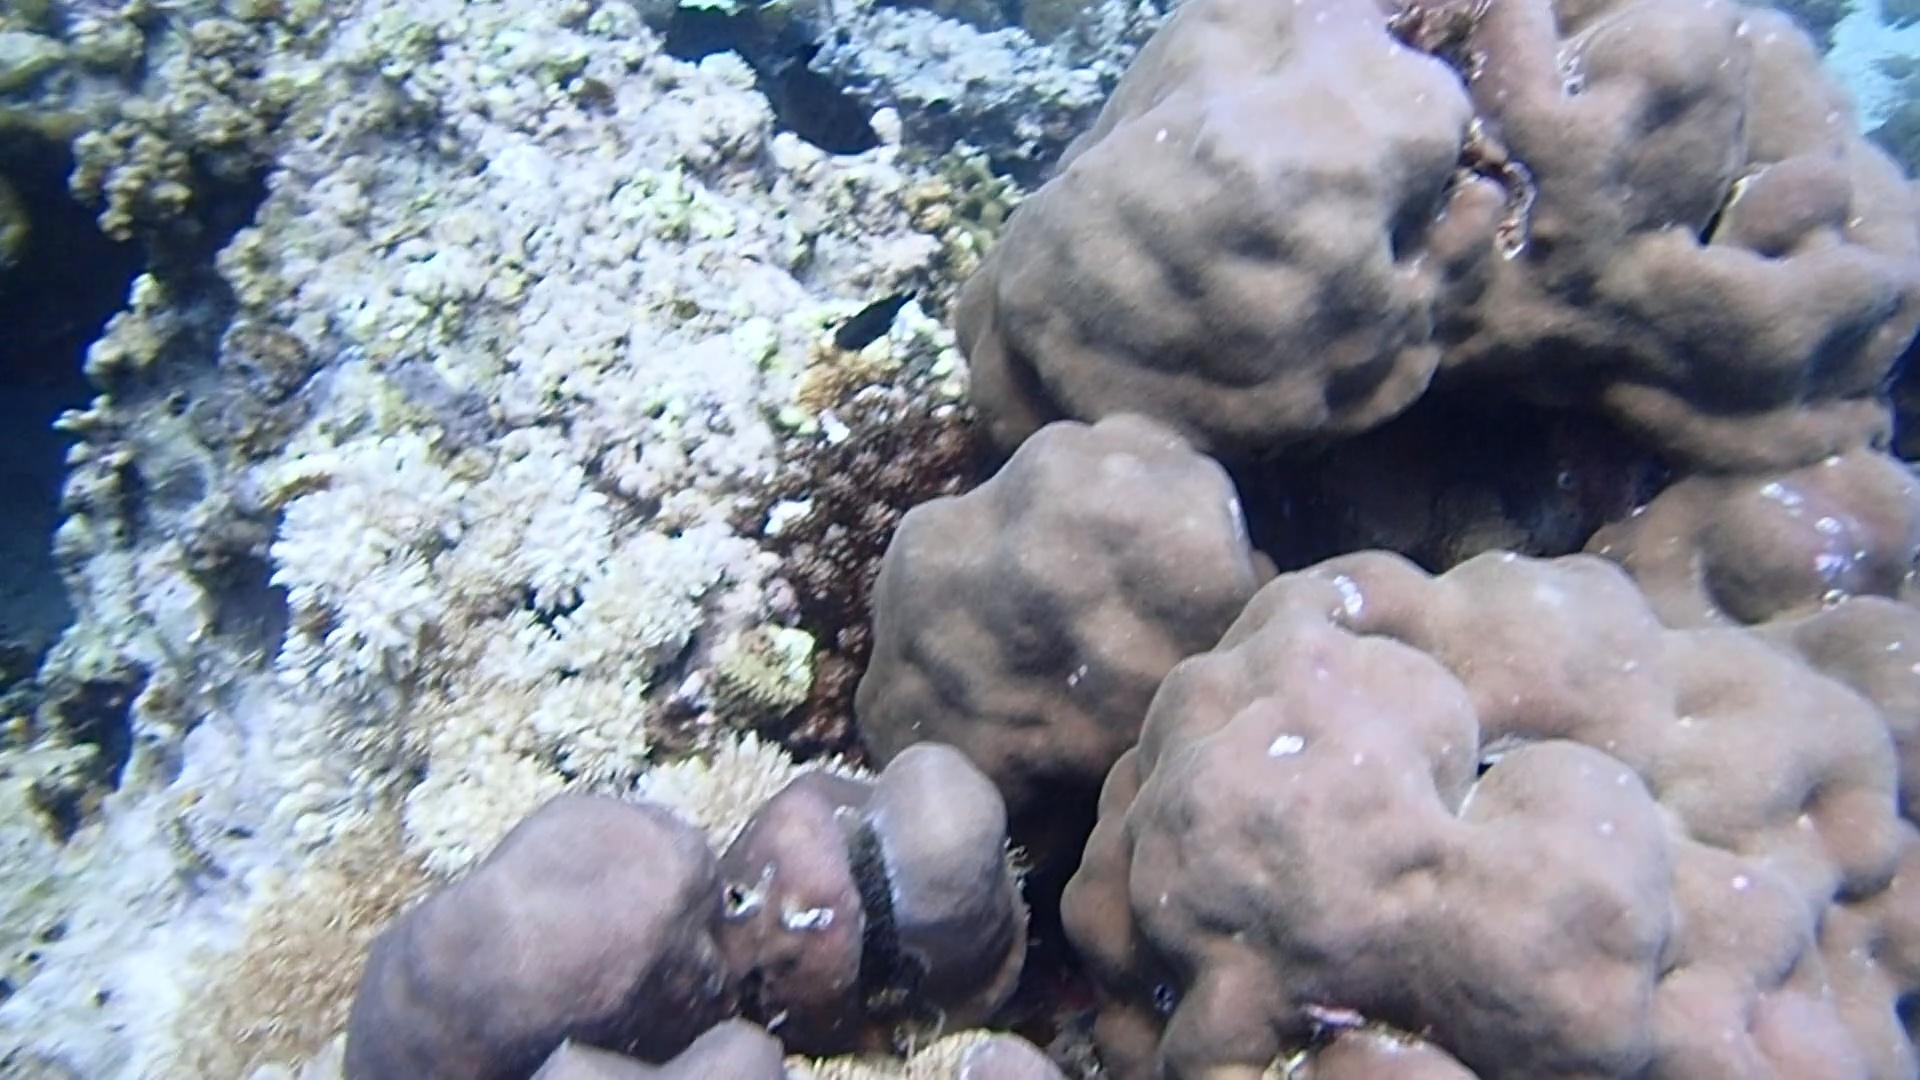Dark Fish: (758, 38, 889, 162), (825, 282, 920, 355), (767, 18, 812, 62), (919, 88, 956, 124)
